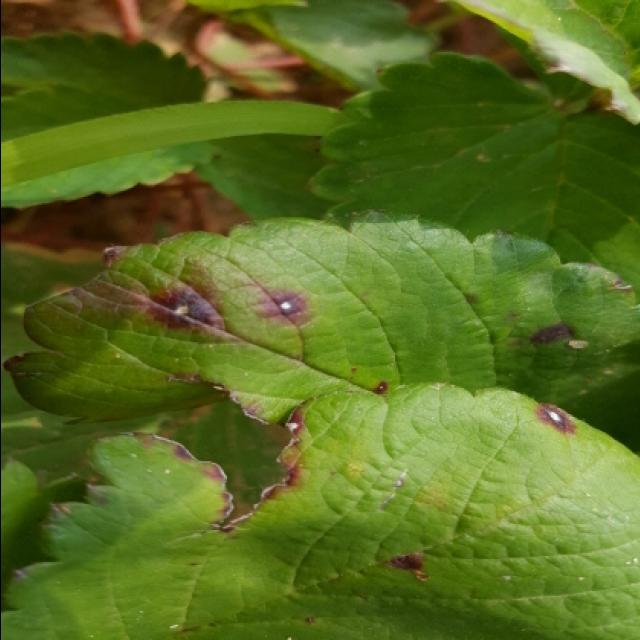Leaf Spot: (2, 381, 640, 638), (2, 209, 640, 454)
